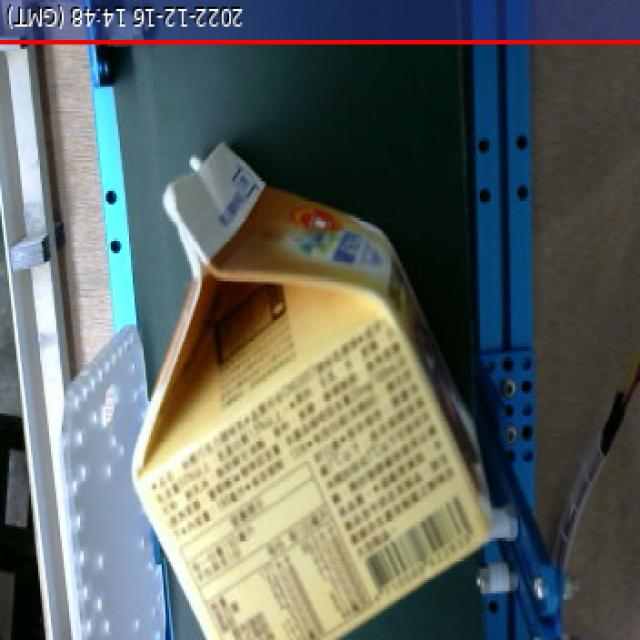non_white_jug: (113, 132, 528, 640)
